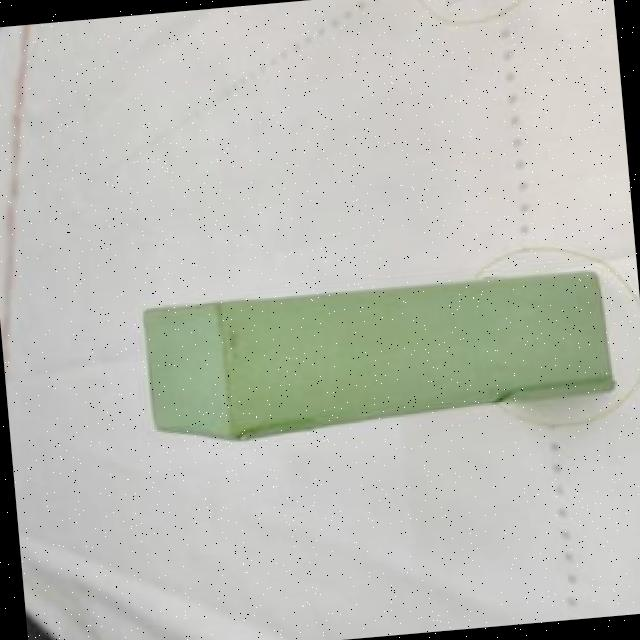greenbox: (134, 258, 616, 451)
